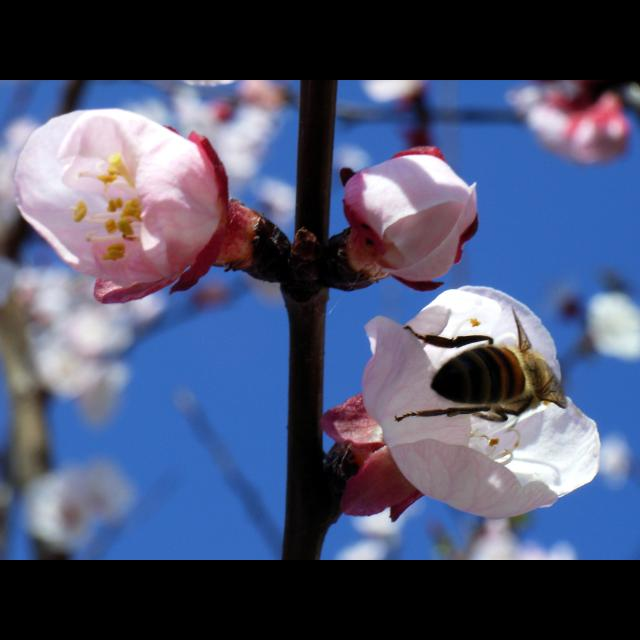Flower: (321, 283, 604, 523), (26, 104, 256, 306), (342, 144, 480, 296)
